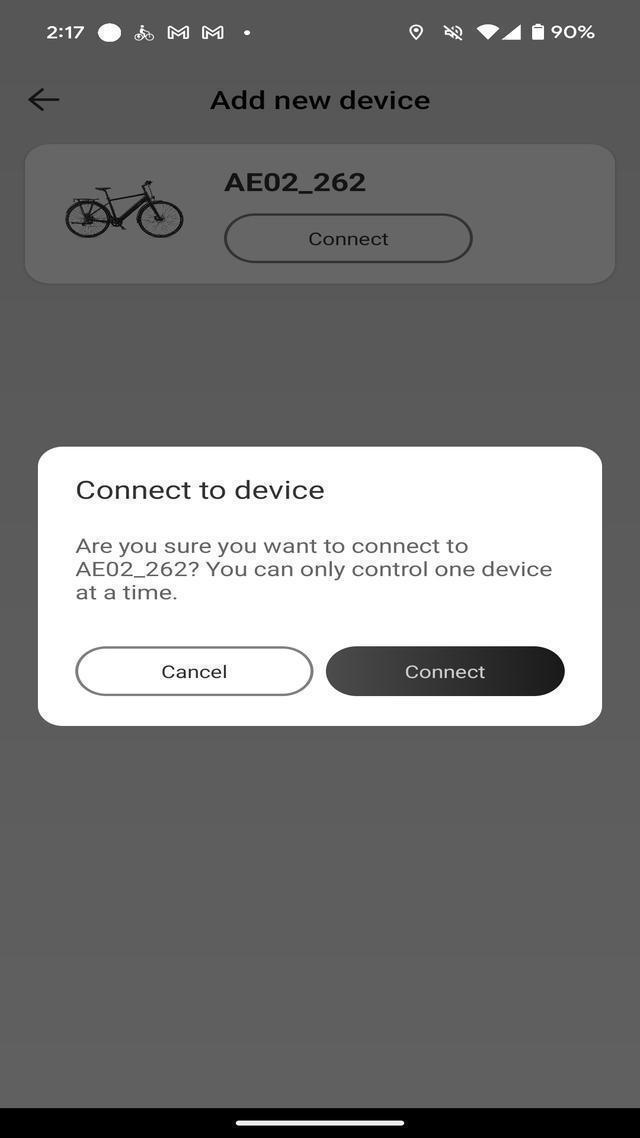ASCII: (24, 82, 64, 118)
Icon: (95, 18, 124, 45), (130, 20, 156, 46), (440, 19, 465, 44), (196, 23, 226, 43), (164, 23, 192, 42), (475, 23, 501, 41), (502, 23, 524, 42), (530, 20, 546, 44), (407, 22, 425, 42), (238, 24, 256, 40)
Image: (54, 176, 194, 246)
Text: (73, 562, 554, 582), (68, 535, 472, 557), (72, 475, 330, 505), (202, 83, 442, 115), (221, 169, 371, 198), (298, 224, 399, 251), (74, 583, 184, 606), (402, 660, 491, 686), (156, 657, 232, 683), (550, 18, 600, 44), (38, 22, 86, 43)
TextButton: (222, 211, 476, 268), (74, 644, 312, 698), (324, 644, 566, 697)
